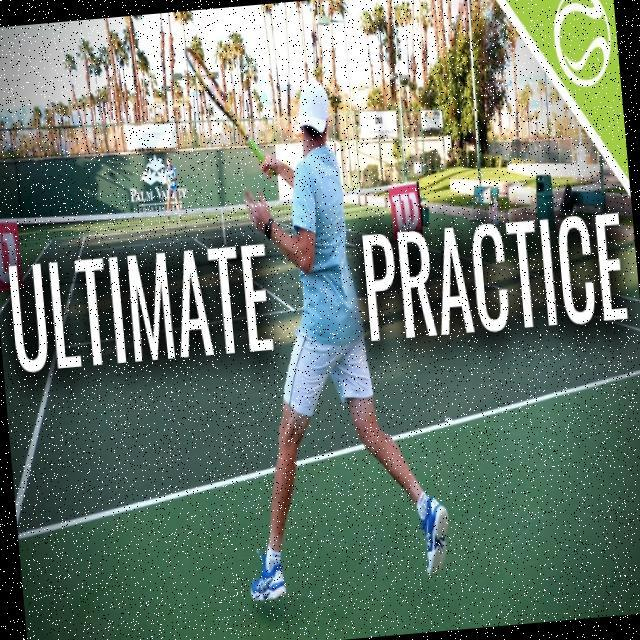court: (0, 214, 640, 583)
net: (0, 169, 436, 294)
player: (182, 18, 463, 614)
